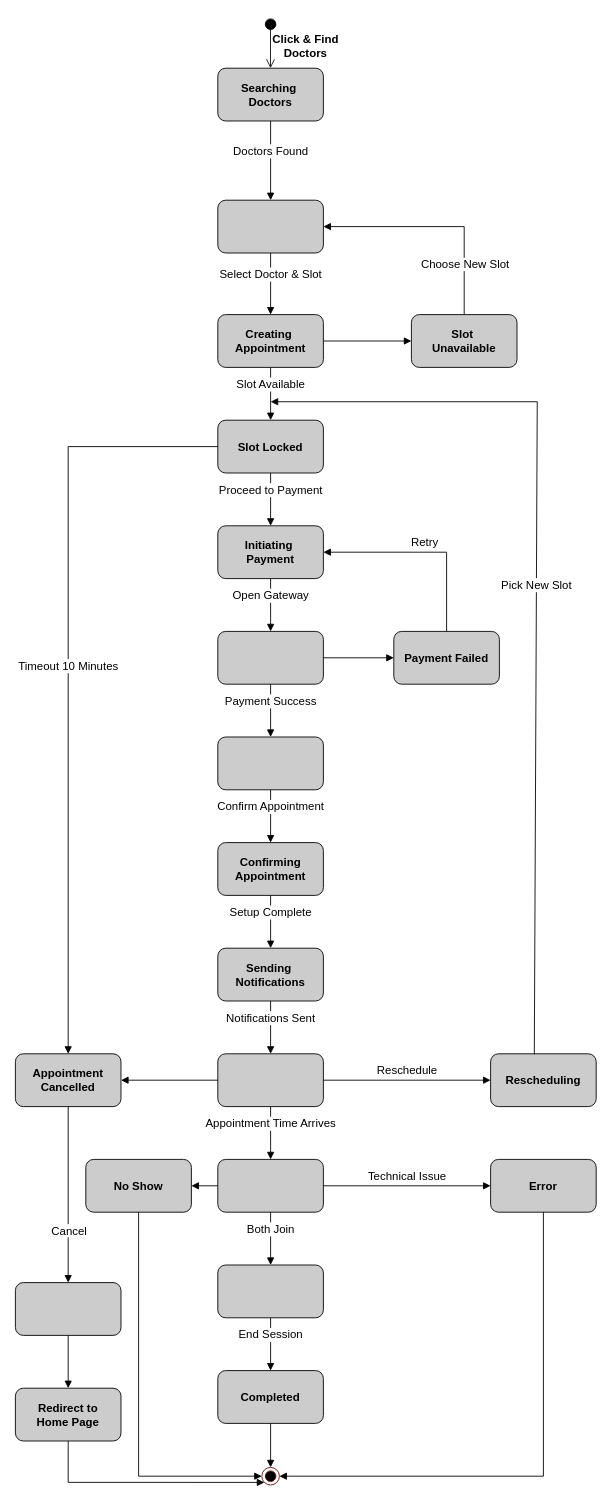
Image size: 612x1506. Some labels were removed from this diagram. Each missing label, with the box of its shape:
Appointment Confirmed: (217, 1053, 323, 1107)
Displaying Doctors: (217, 199, 323, 253)
In Progress: (217, 1264, 323, 1318)
Payment Confirmed: (217, 736, 323, 790)
Processing Payment: (217, 631, 323, 684)
Refund Processed: (15, 1282, 121, 1335)
Waiting to Start: (217, 1159, 323, 1212)
